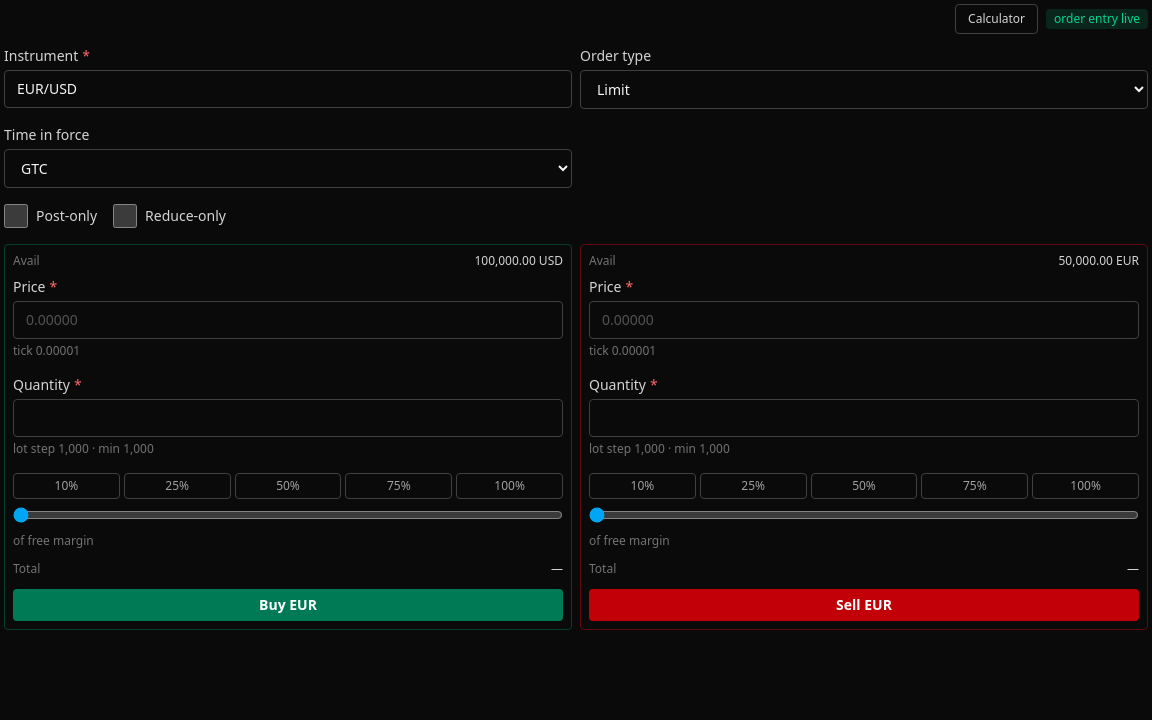
Test: AdvancedOrderPanel — Binance-style dual columns › blocks a side with invalid fields while the other stays clean
expect the field labelled "Instrument*" holds "EUR/USD": met, box [4,70,572,108]
Click the button "Buy EUR". click: (288, 605)
box: [13,589,563,621]
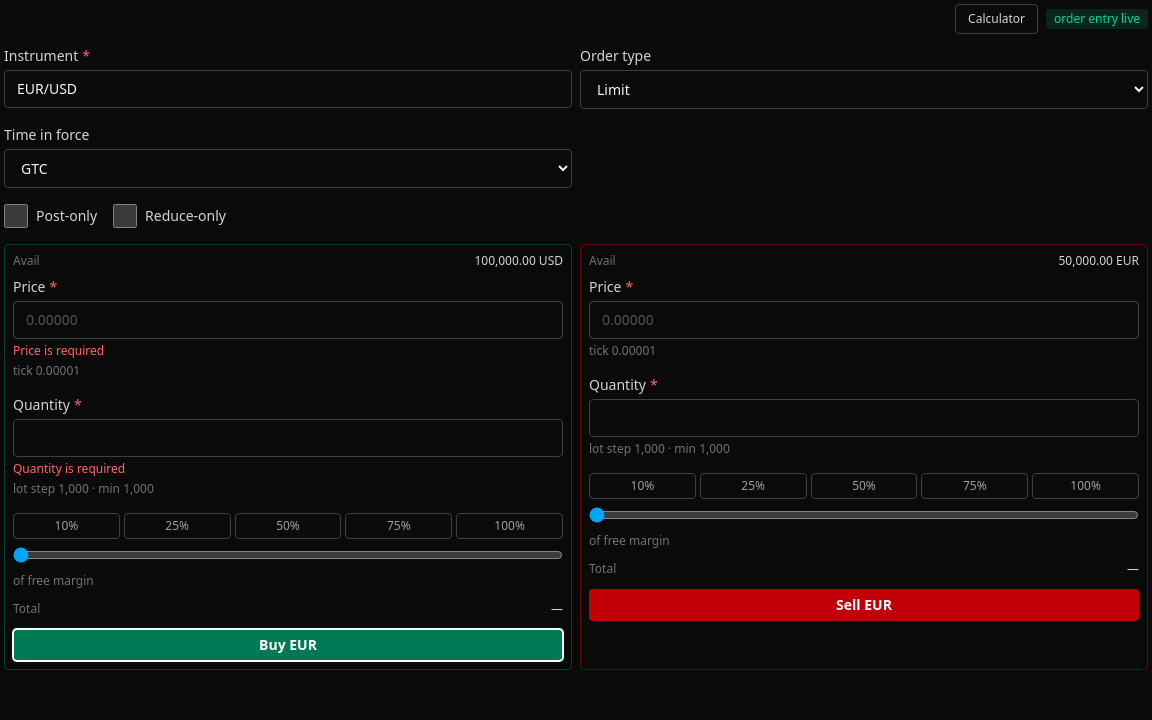
expect the message "Price is required" is shown: met, box [13,342,104,359]
